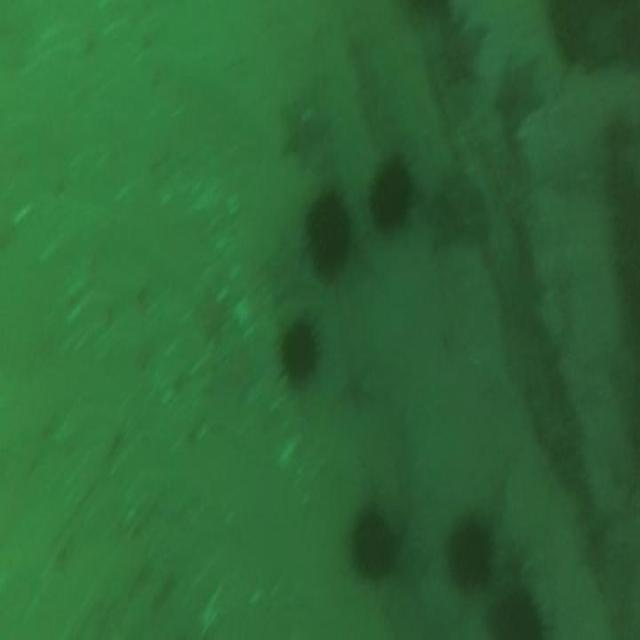echinus: (344, 492, 410, 592), (441, 494, 499, 604), (361, 144, 419, 245), (303, 185, 357, 286), (274, 299, 324, 403), (486, 569, 548, 635)
starfish: (428, 163, 495, 261), (490, 43, 548, 144), (437, 17, 491, 92), (281, 89, 327, 172)
